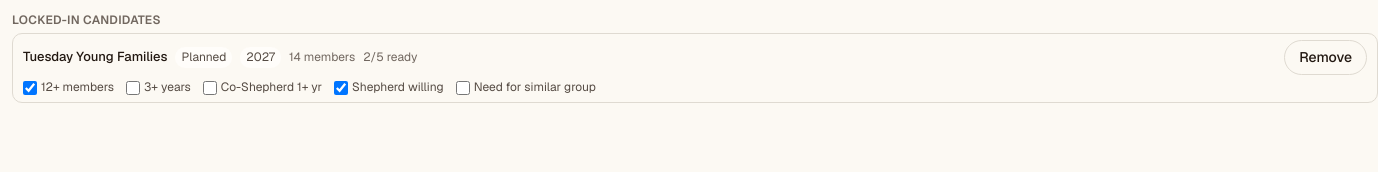
Test case: PipelineLockedInCandidates — inline readiness toggle (OPP-5 #781) › rolls back the toggled criterion and surfaces an error on failure
Click the checkbox labelled "3+ years": {"x": 133, "y": 88} [126,81,140,95]
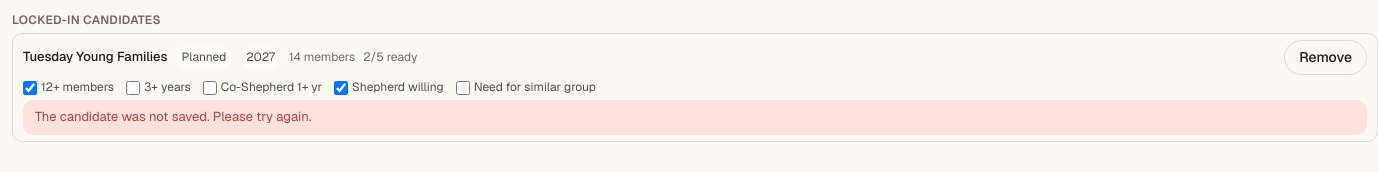
Expected: the text "2/5 ready" is shown, [363,49,418,66]
Expected: the message reads "The candidate was not saved. Please try again.", [35,108,312,125]
